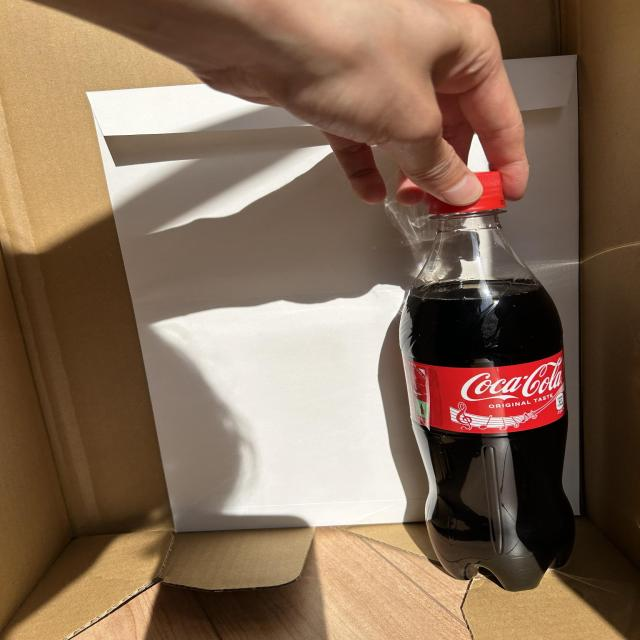high: (400, 170, 574, 591)
